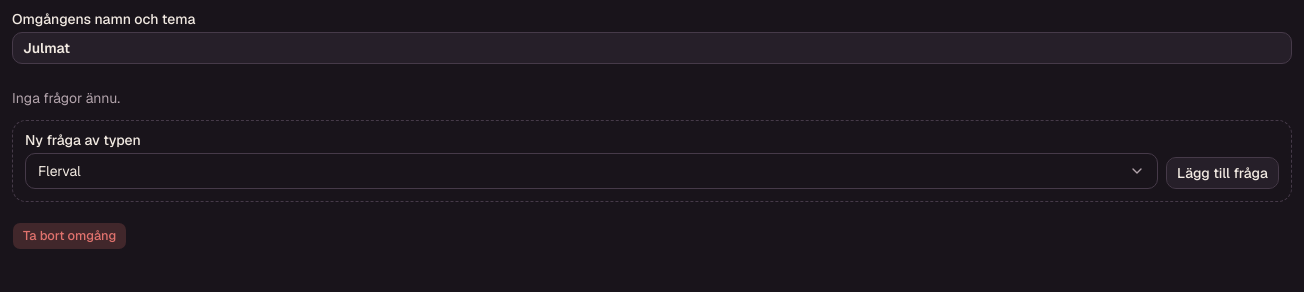
Test: RoundPanel › says when the round's name could not be saved
Type "!" into the field labelled "Omgångens namn och tema" at (652, 48), box [12, 32, 1292, 64]
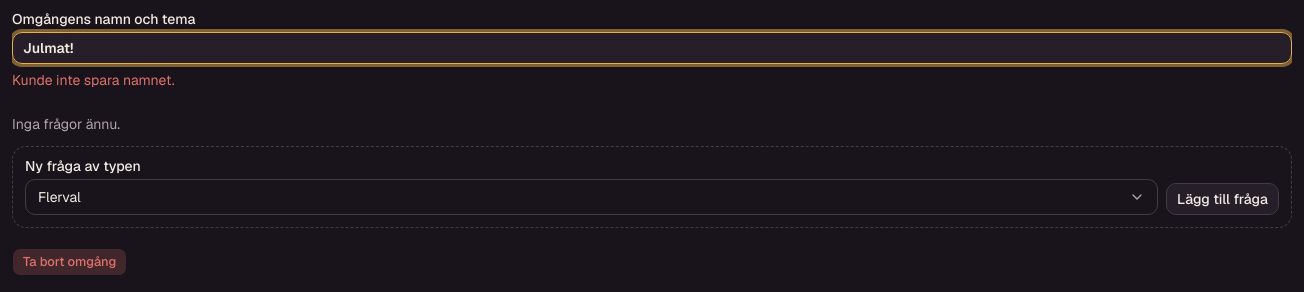
Expected: the message reads "Kunde inte spara namnet.", [12, 71, 175, 89]
